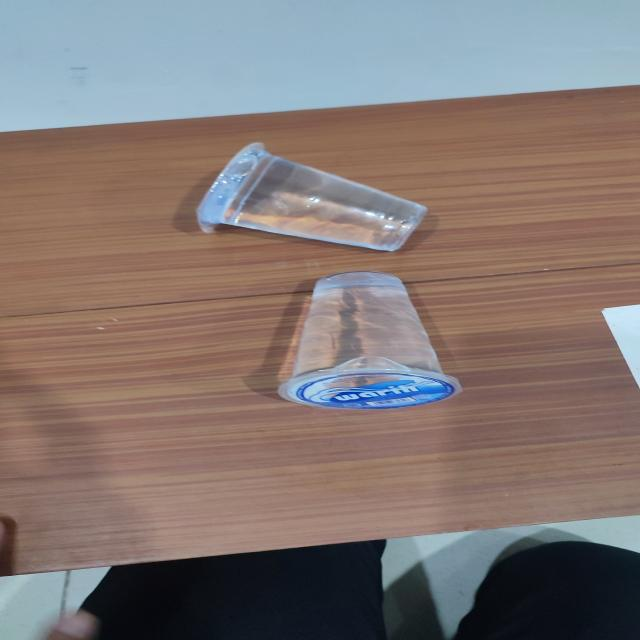air gelas: (266, 265, 473, 413), (191, 140, 431, 258)
